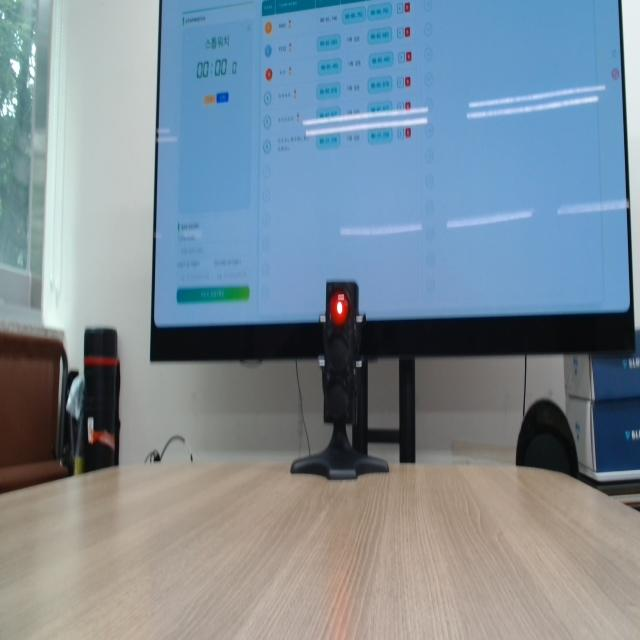red_light: (330, 292, 349, 326)
